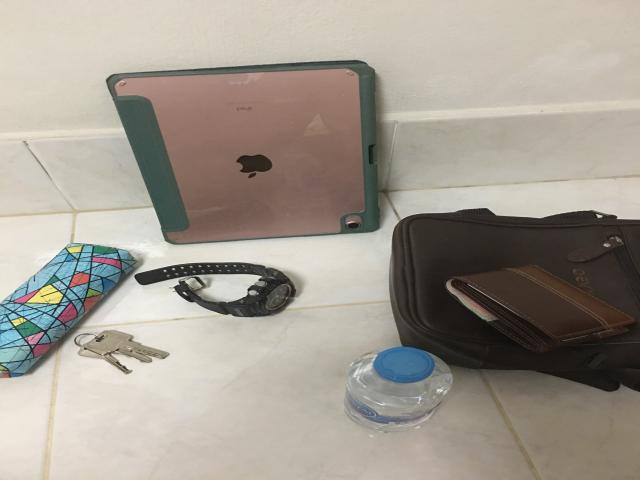Keys: (75, 330, 168, 374)
Wallet: (445, 264, 635, 352)
Watch: (135, 262, 295, 317)
bottle: (345, 347, 453, 431)
